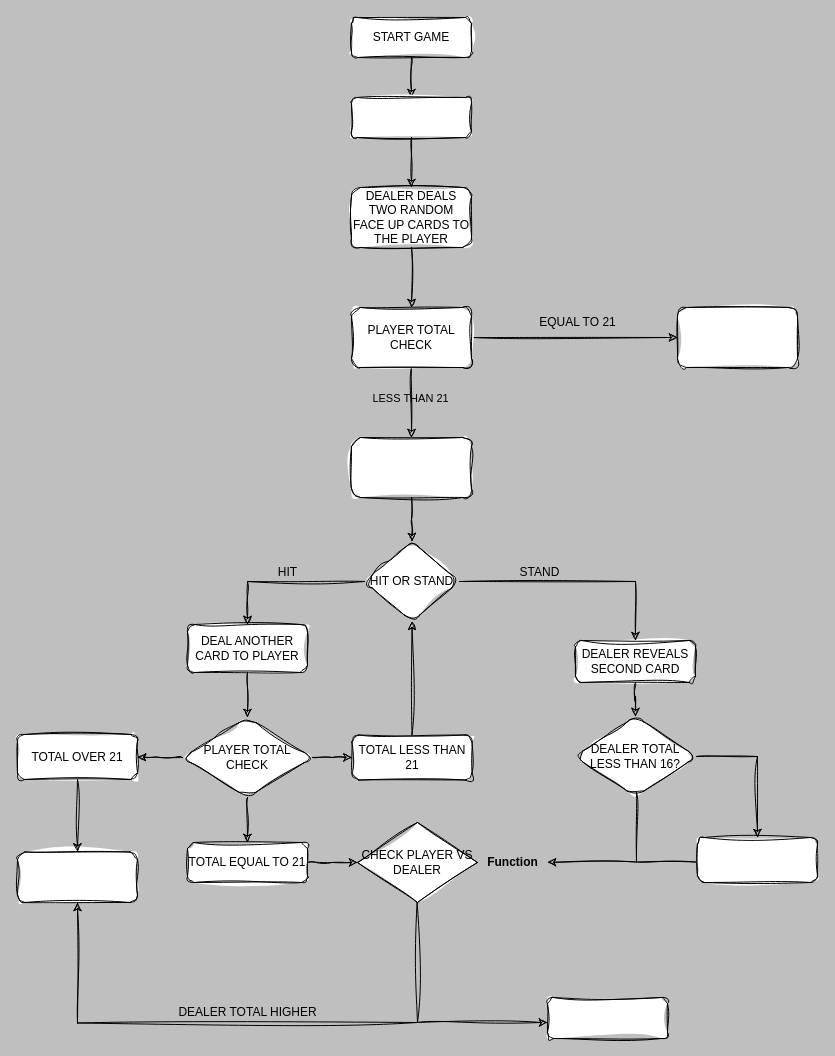
Some shapes in this 835 by 1056 pixel diagram are drawn without their labels. The shapes that lost their labels are listed below. From the top down, each one's centre as x and y in pixels, then its label:
At point (411, 117): "PLAYER PLACES BETS".
At point (737, 337): "BLACKJACK!! PLAYER WINS!".
At point (411, 467): "DEALER TAKES TWO CARDS AND DISPLAYS ONE AND HIDES ONE".
At point (77, 876): "BUST! PLAYER LOSES".
At point (757, 859): "DEALER TAKES NEW CARD".
At point (607, 1017): "PLAYER WINS!".
